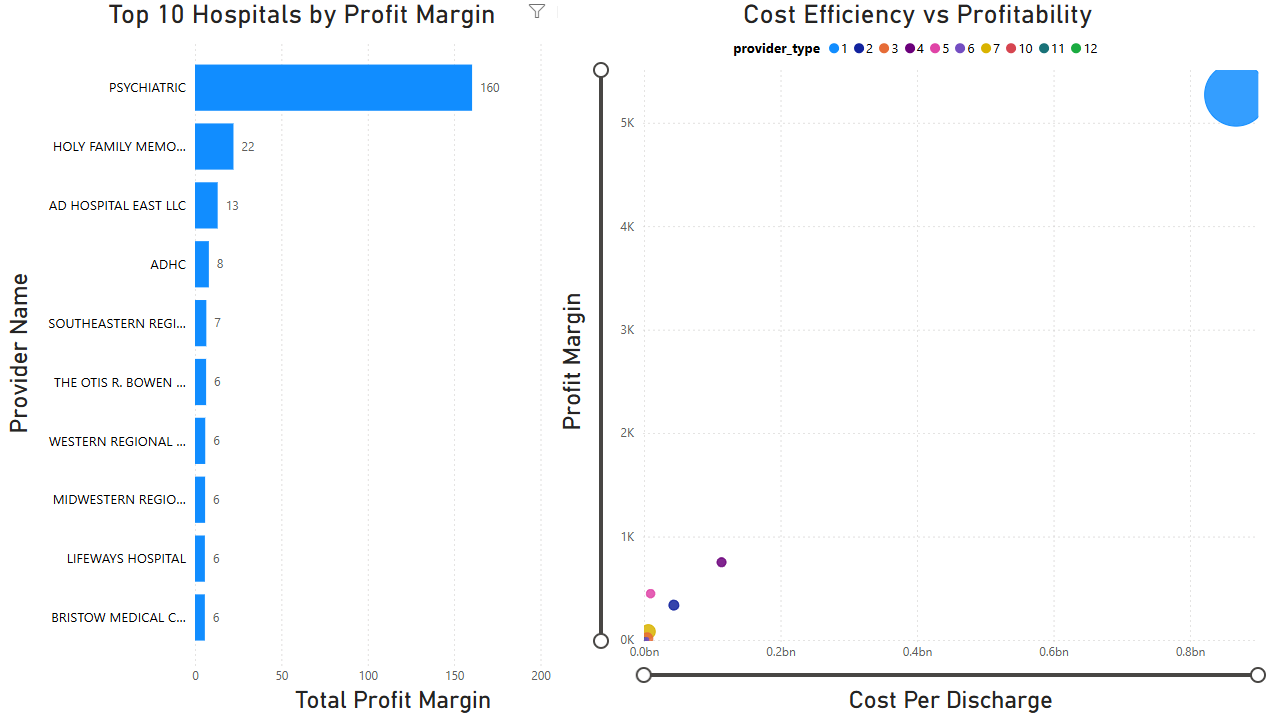

The page's visual inventory and layout, read from the dashboard file:
{"tool":"powerbi","page":{"name":"Provider Analysis","canvas":[1280,720],"ordinal":1},"visuals":[{"type":"clusteredBarChart","title":"Top 10 Hospitals by Profit Margin","fields":{"Category":["public hospital_costs.provider_name"],"Y":["Sum(public hospital_costs.profit_margin)"]},"box":[0,0,608,720],"z":0},{"type":"scatterChart","title":"Cost Efficiency vs Profitability","fields":{"X":["Sum(public hospital_costs.cost_per_discharge)"],"Y":["Sum(public hospital_costs.profit_margin)"],"Size":["Sum(public hospital_costs.total_revenue)"],"Series":["public hospital_costs.provider_type"]},"box":[560,0,720,720],"z":1}]}

Visuals, with their boxes in screenshot pixels (x1, y1, x2, y2), scaled from the page's 1280x720 canvas onto the 1277x716 screenshot:
"Top 10 Hospitals by Profit Margin" clusteredBarChart: 0/0/607/715
"Cost Efficiency vs Profitability" scatterChart: 559/0/1276/715
